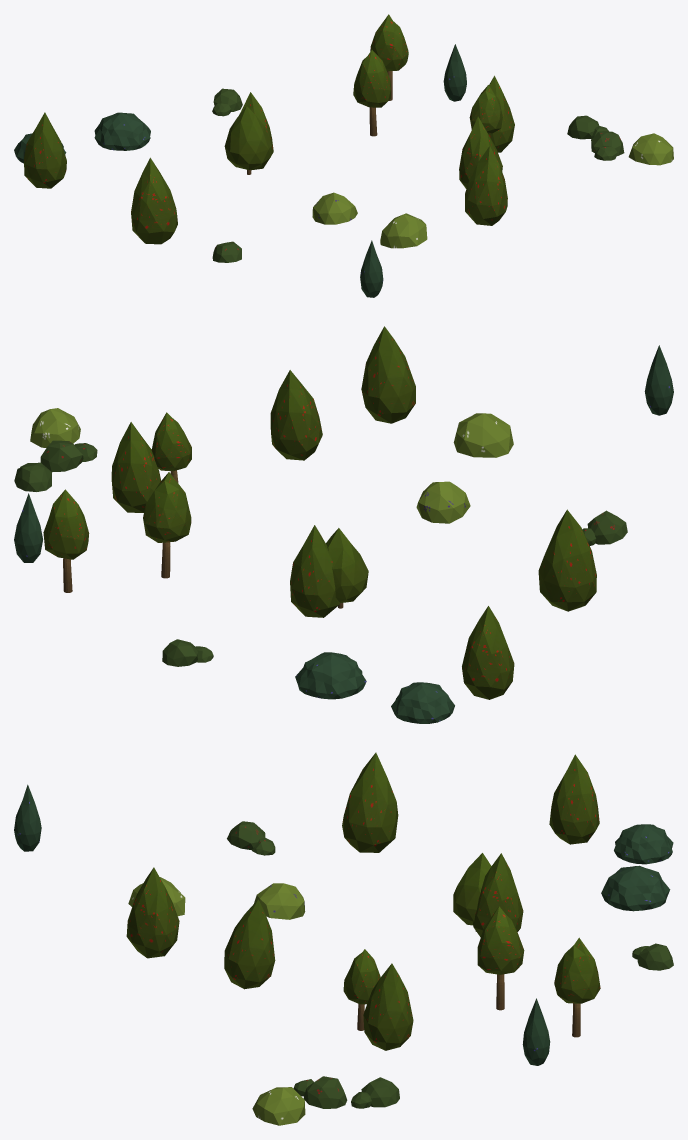
File: Bushes3.gltf
3 renders of one model, top to bottom at view 1: azimuth 30°, elevation 25°; view 2: azimuth 150°, elevation 25°; view 3: azimuth 270°, elevation 25°, orthographic. The views are drawn at different scales.
Visible parts, largest first — view 1: Hollytree3 - copy.001, Hollytree3 - copy.003, Hollytree3 - copy.004, Hollytree2 - copy.009, Hollytree1 - copy.011, JuniperBush1 - copy.003, Hollytree1 - copy.015, ElderberryBush1 - copy.014, Hollytree3 - copy.025, ElderberryBush2 - copy.025, ElderberryBush1 - copy.015, Hollytree1 - copy.020 (+8 smaller); view 2: Hollytree3 - copy.001, Hollytree3 - copy.003, Hollytree3 - copy.004, Hollytree3 - copy.025, Hollytree3 - copy.005, Hollytree3 - copy.006, Hollytree1 - copy.011, Hollytree1 - copy.015, JuniperBush1 - copy.003, ElderberryBush1 - copy.014, JuniperBush1 - copy.010, Hollytree2 - copy.009 (+9 smaller); view 3: Hollytree3 - copy.001, Hollytree3 - copy.025, Hollytree3 - copy.003, Hollytree3 - copy.004, Hollytree3 - copy.006, Hollytree1 - copy.011, Hollytree1 - copy.015, JuniperBush1 - copy.003, Hollytree3 - copy.005, JuniperBush1 - copy.010, ElderberryBush1 - copy.015, Hollytree1 - copy.020 (+8 smaller).
Part boxes in pixels (box(x1,y1,x2,y2)): Hollytree3 - copy.001: box(131, 157, 177, 244); Hollytree3 - copy.003: box(465, 146, 507, 225); Hollytree3 - copy.004: box(24, 112, 66, 188); Hollytree2 - copy.009: box(224, 106, 271, 174); Hollytree1 - copy.011: box(353, 50, 390, 136); JuniperBush1 - copy.003: box(94, 112, 150, 150); Hollytree1 - copy.015: box(370, 14, 408, 100); ElderberryBush1 - copy.014: box(380, 213, 427, 248); Hollytree3 - copy.025: box(459, 116, 502, 188); ElderberryBush2 - copy.025: box(312, 192, 357, 224); ElderberryBush1 - copy.015: box(628, 133, 673, 165); Hollytree1 - copy.020: box(469, 85, 502, 133); Hollytree3 - copy.001: box(538, 509, 596, 611); Hollytree3 - copy.003: box(361, 326, 415, 423); Hollytree3 - copy.004: box(462, 606, 514, 699); Hollytree3 - copy.025: box(270, 370, 322, 460); Hollytree3 - copy.005: box(290, 525, 339, 617); Hollytree3 - copy.006: box(111, 422, 161, 512); Hollytree1 - copy.011: box(143, 472, 191, 578); Hollytree1 - copy.015: box(43, 489, 89, 592); JuniperBush1 - copy.003: box(295, 652, 366, 699); ElderberryBush1 - copy.014: box(453, 413, 513, 457); JuniperBush1 - copy.010: box(391, 682, 454, 723); Hollytree2 - copy.009: box(326, 528, 368, 608); Hollytree3 - copy.001: box(342, 752, 398, 852); Hollytree3 - copy.025: box(224, 899, 275, 989); Hollytree3 - copy.003: box(126, 867, 179, 958); Hollytree3 - copy.004: box(549, 754, 599, 844); Hollytree3 - copy.006: box(363, 963, 413, 1050); Hollytree1 - copy.011: box(477, 906, 524, 1010); Hollytree1 - copy.015: box(554, 937, 600, 1037); JuniperBush1 - copy.003: box(601, 865, 670, 911); Hollytree3 - copy.005: box(473, 853, 523, 937); JuniperBush1 - copy.010: box(614, 824, 673, 864); ElderberryBush1 - copy.015: box(252, 1087, 305, 1125); Hollytree1 - copy.020: box(343, 949, 380, 1030).
Size of the model in its own units: 27.43 by 5.37 by 25.72.
Materials: 9 (9 with a texture image).
